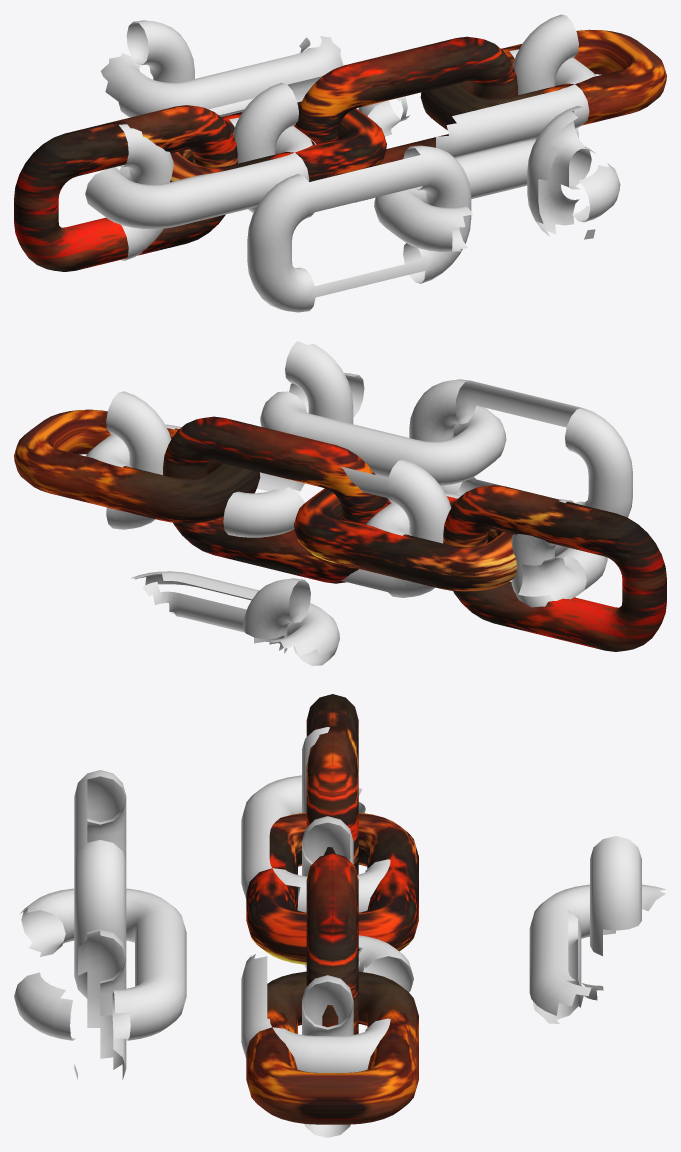
File: suipian_1.FBX
The picture shows the model from 3 angles, top to bottom: view 1: azimuth 30°, elevation 25°; view 2: azimuth 150°, elevation 25°; view 3: azimuth 270°, elevation 25°; orthographic projection. The views are drawn at different scales.
Parts seen in each view (by area): view 1: Rectangle006, 010, 2, 011; view 2: Rectangle006, 010, 2, 011; view 3: Rectangle006, 010, 2, 011.
Boxes of the visible parts, <box> form: Rectangle006: <box>14,29,666,271</box>; 010: <box>247,106,620,312</box>; 2: <box>85,14,596,260</box>; 011: <box>101,20,343,117</box>; Rectangle006: <box>14,409,666,651</box>; 010: <box>260,341,632,517</box>; 2: <box>86,391,607,607</box>; 011: <box>131,571,339,665</box>; Rectangle006: <box>246,694,418,1124</box>; 010: <box>14,770,186,1079</box>; 2: <box>241,727,413,1137</box>; 011: <box>529,836,666,1023</box>.
Size of the model in its own units: 91.34 by 18.46 by 69.78.
1 material, 1 textured.
